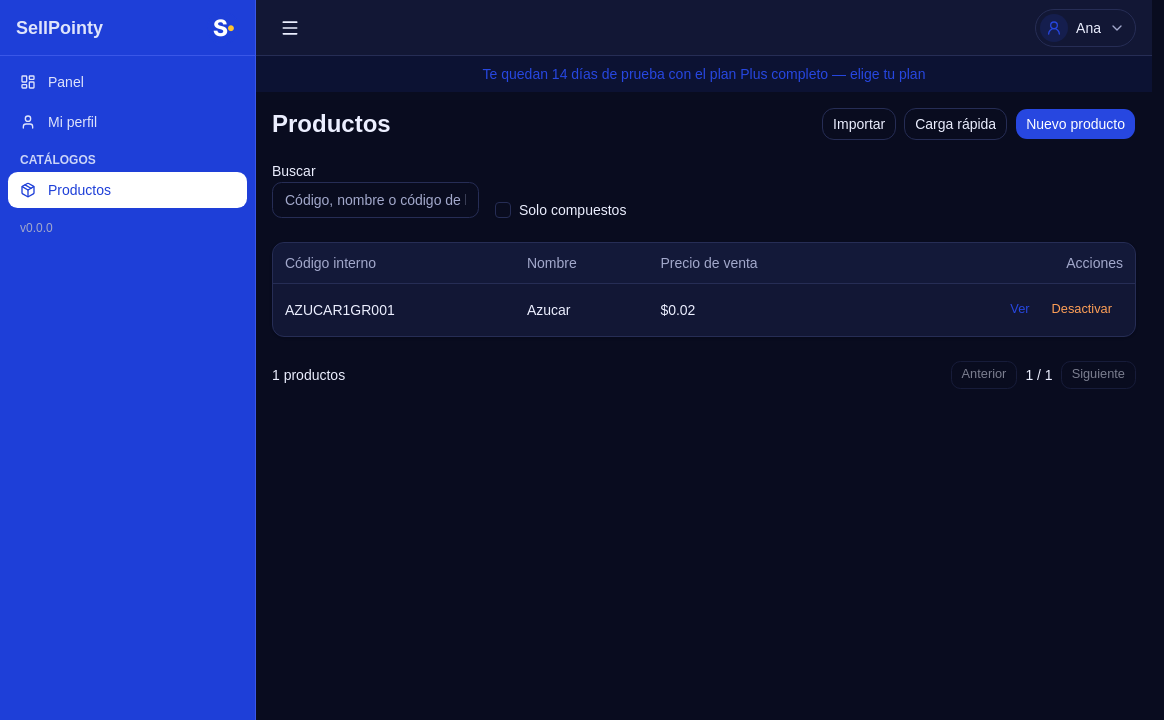
Desactivar y reactivar un producto › si el server rechaza por existencias, la lista dice dónde está el stock
Click the button "Desactivar": (1082, 310) left=1040, top=296, right=1123, bottom=324
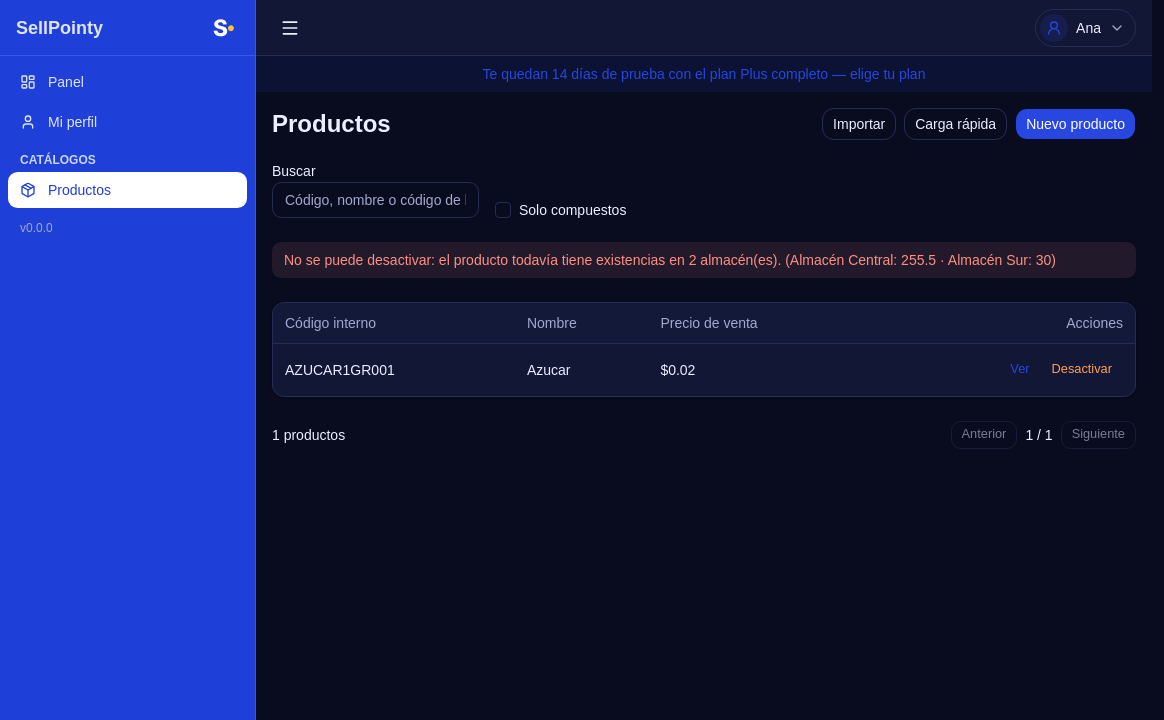
Check: the text with test id "product-action-error" shows "todavía tiene existencias", box left=284, top=252, right=1056, bottom=268
Check: the text with test id "product-action-error" shows "Almacén Central: 255.5", box left=284, top=252, right=1056, bottom=268
Check: the text with test id "product-action-error" shows "Almacén Sur: 30", box left=284, top=252, right=1056, bottom=268
